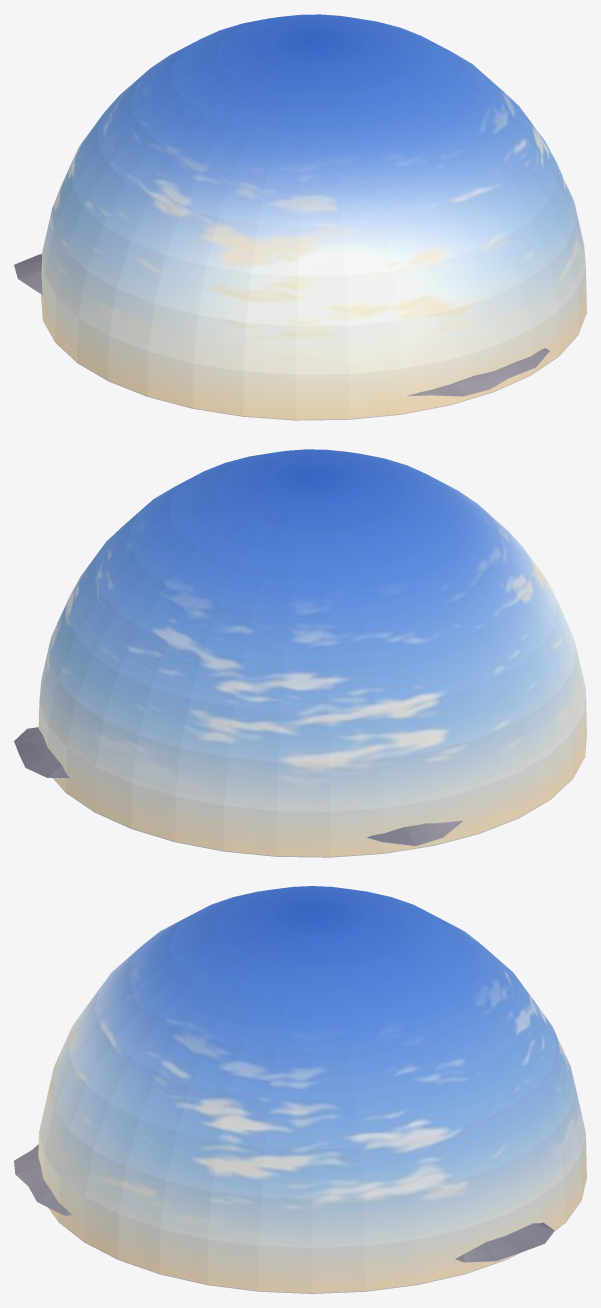
File: lugar-guadalajara-ciudad.glb
3 renders of one model, top to bottom at view 1: azimuth 30°, elevation 25°; view 2: azimuth 150°, elevation 25°; view 3: azimuth 270°, elevation 25°, orthographic.
Visible parts, largest first — view 1: planoC, vertT; view 2: planoC, vertT; view 3: planoC, vertT.
Part boxes in pixels (<box>): planoC: <box>41,14,586,420</box>; vertT: <box>14,254,549,396</box>; planoC: <box>38,449,586,857</box>; vertT: <box>14,727,462,846</box>; planoC: <box>38,886,586,1293</box>; vertT: <box>14,1144,554,1262</box>.
Size of the model in its own units: 6584 by 3530 by 6870.
Materials: 11 (10 with a texture image).
